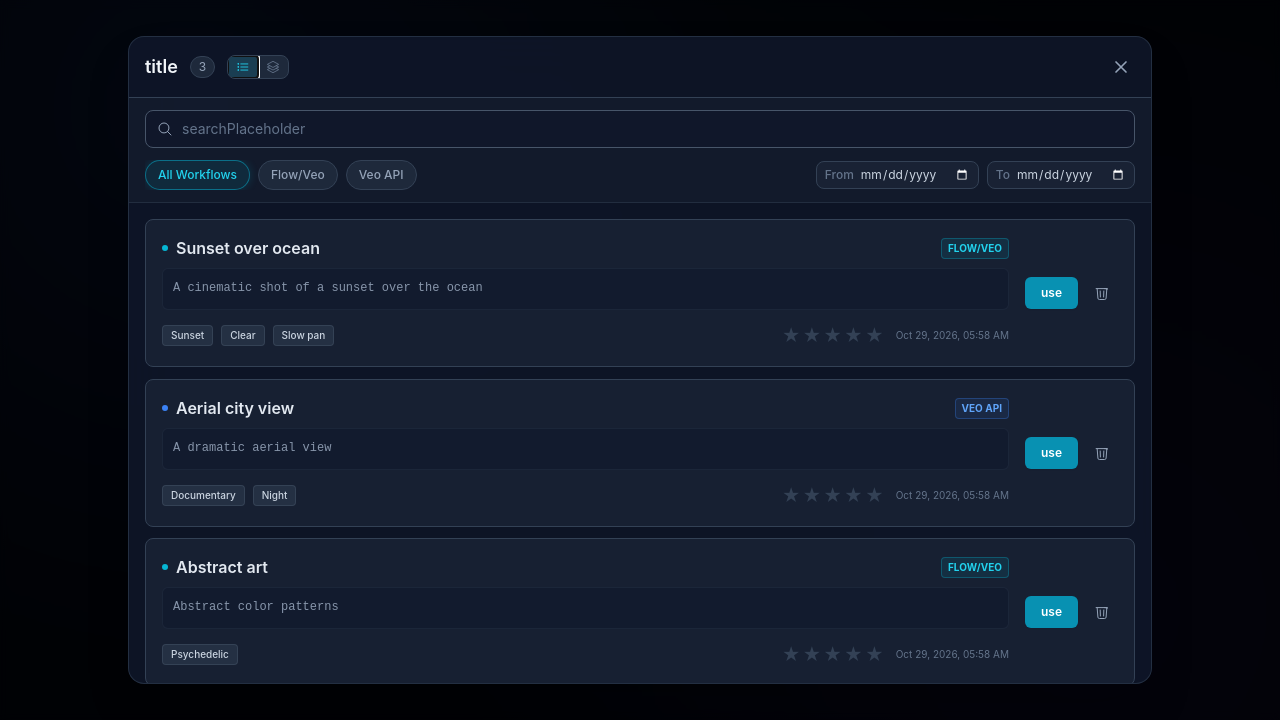
HistoryPanel › should reset all filters when reset button is clicked
The width and height of the screenshot is (1280, 720).
Click the button "Veo API" at (381, 175), box [346, 160, 416, 190]
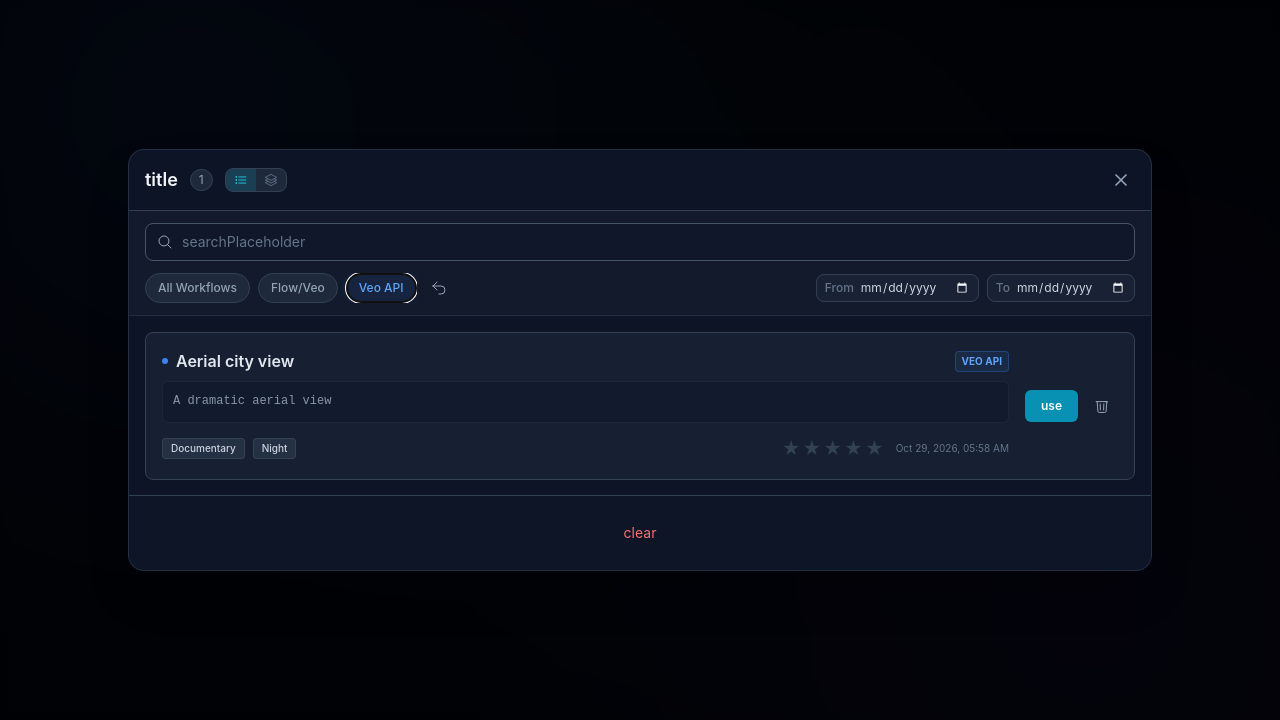
expect the text "Sunset over ocean" is gone: met
Click the button titled "Reset all filters" at (439, 288), box [425, 274, 453, 302]
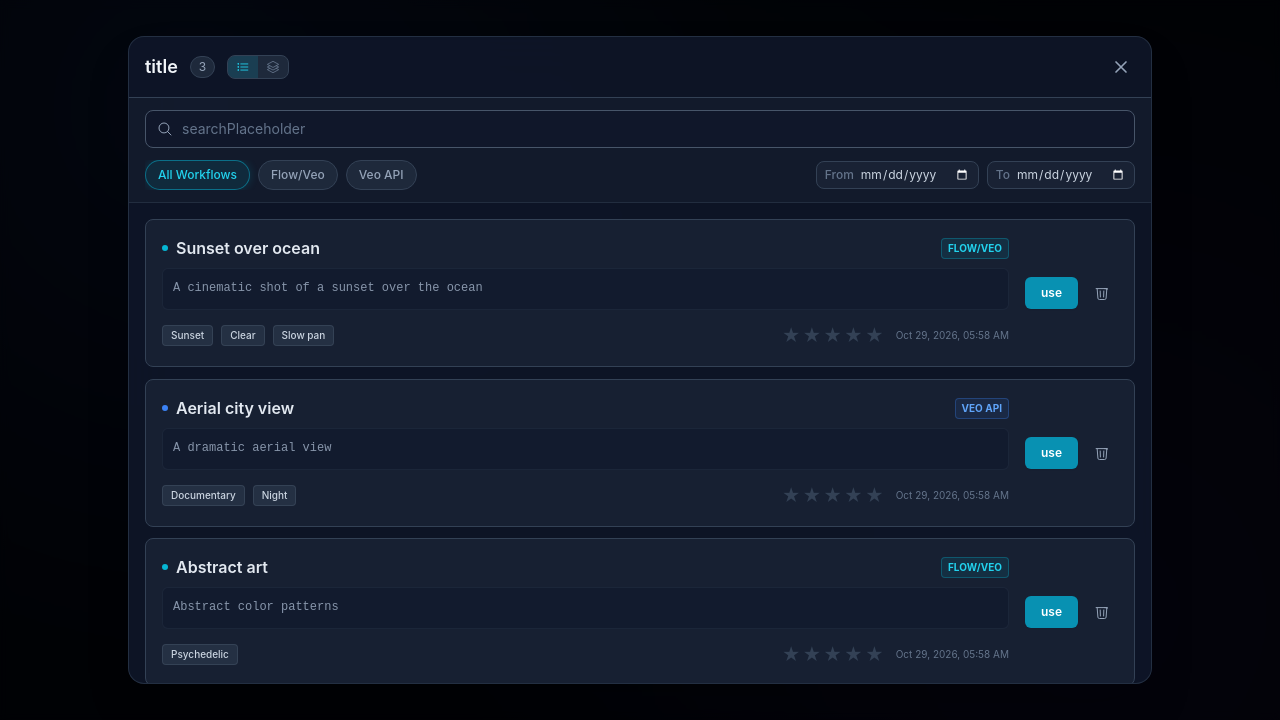
expect the text "Aerial city view" is shown: met, box [176, 396, 294, 420]
expect the text "Sunset over ocean" is shown: met, box [176, 236, 320, 260]
